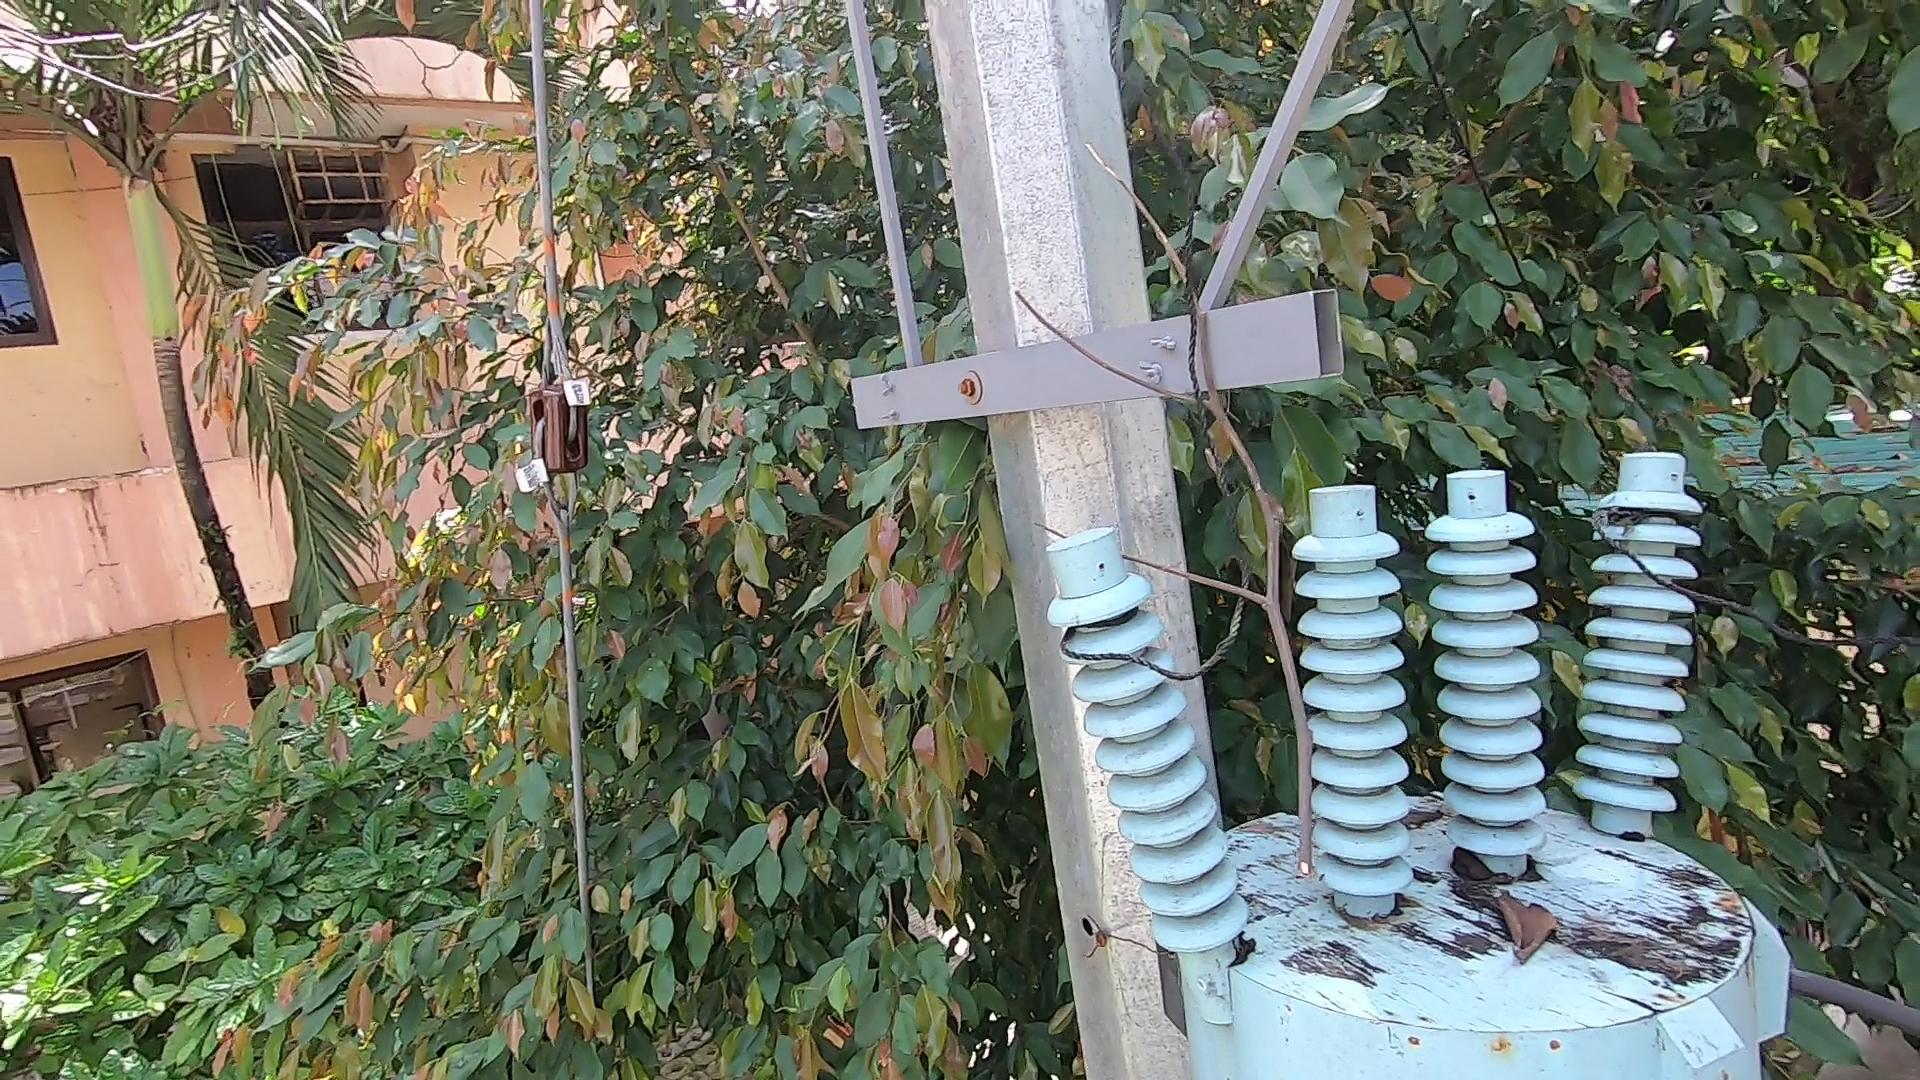leaf: (1491, 885, 1552, 967), (1444, 835, 1497, 889)
tree branch: (1002, 157, 1370, 903)
